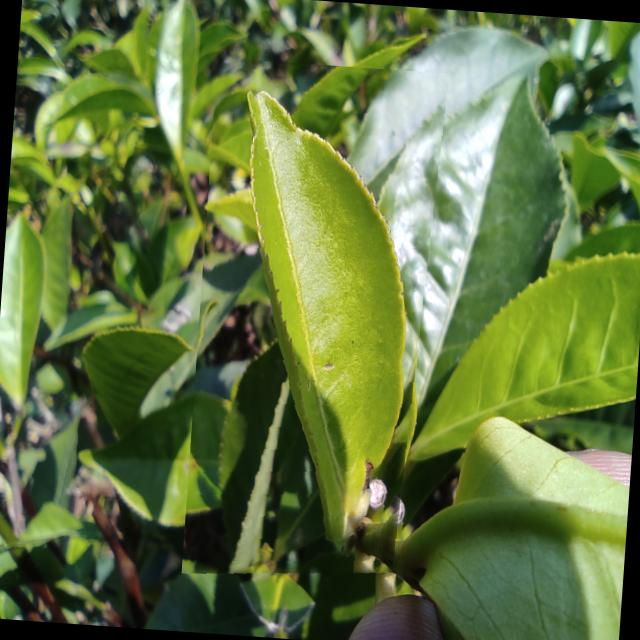Category C(4-7 days): (181, 56, 450, 590)
